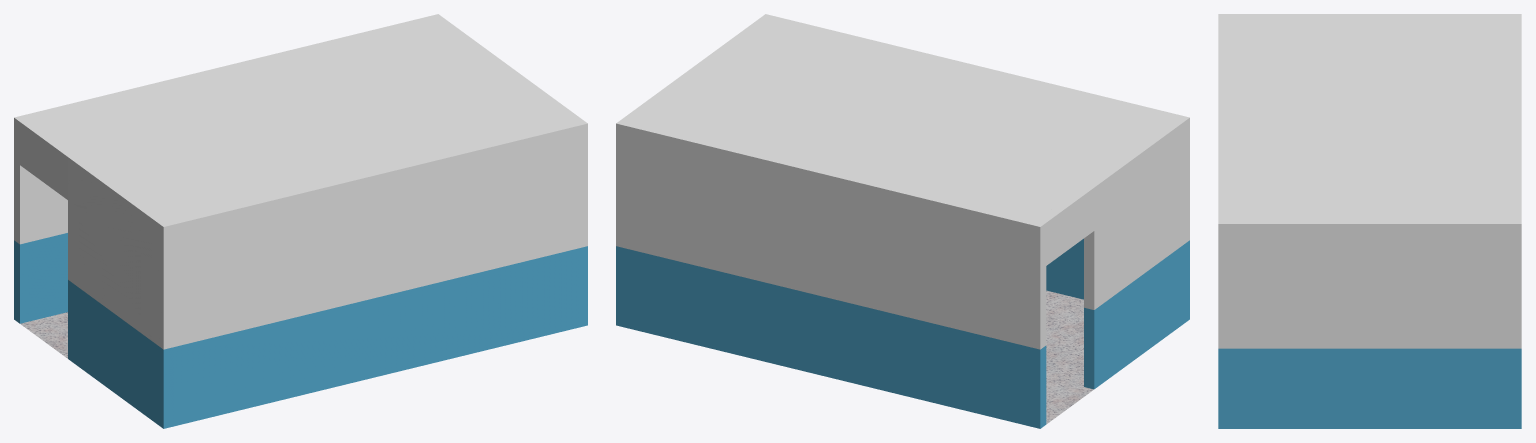
File: ARQ-16.fbx
The picture shows the model from 3 angles, left to right: view 1: azimuth 30°, elevation 25°; view 2: azimuth 150°, elevation 25°; view 3: azimuth 270°, elevation 25°; orthographic projection.
Parts seen in each view (by area): view 1: Pared, Techo, Piso; view 2: Pared, Techo, Piso; view 3: Techo, Pared.
Boxes of the visible parts, x1,y1,x2,y2 form: Pared: [14, 118, 587, 428]; Techo: [14, 14, 587, 226]; Piso: [20, 312, 67, 358]; Pared: [616, 118, 1189, 428]; Techo: [616, 14, 1189, 226]; Piso: [1046, 290, 1093, 424]; Techo: [1218, 14, 1521, 223]; Pared: [1218, 224, 1521, 428].
Bounding box in the file's own units: 616 × 280 × 376.
4 materials, 1 textured.
